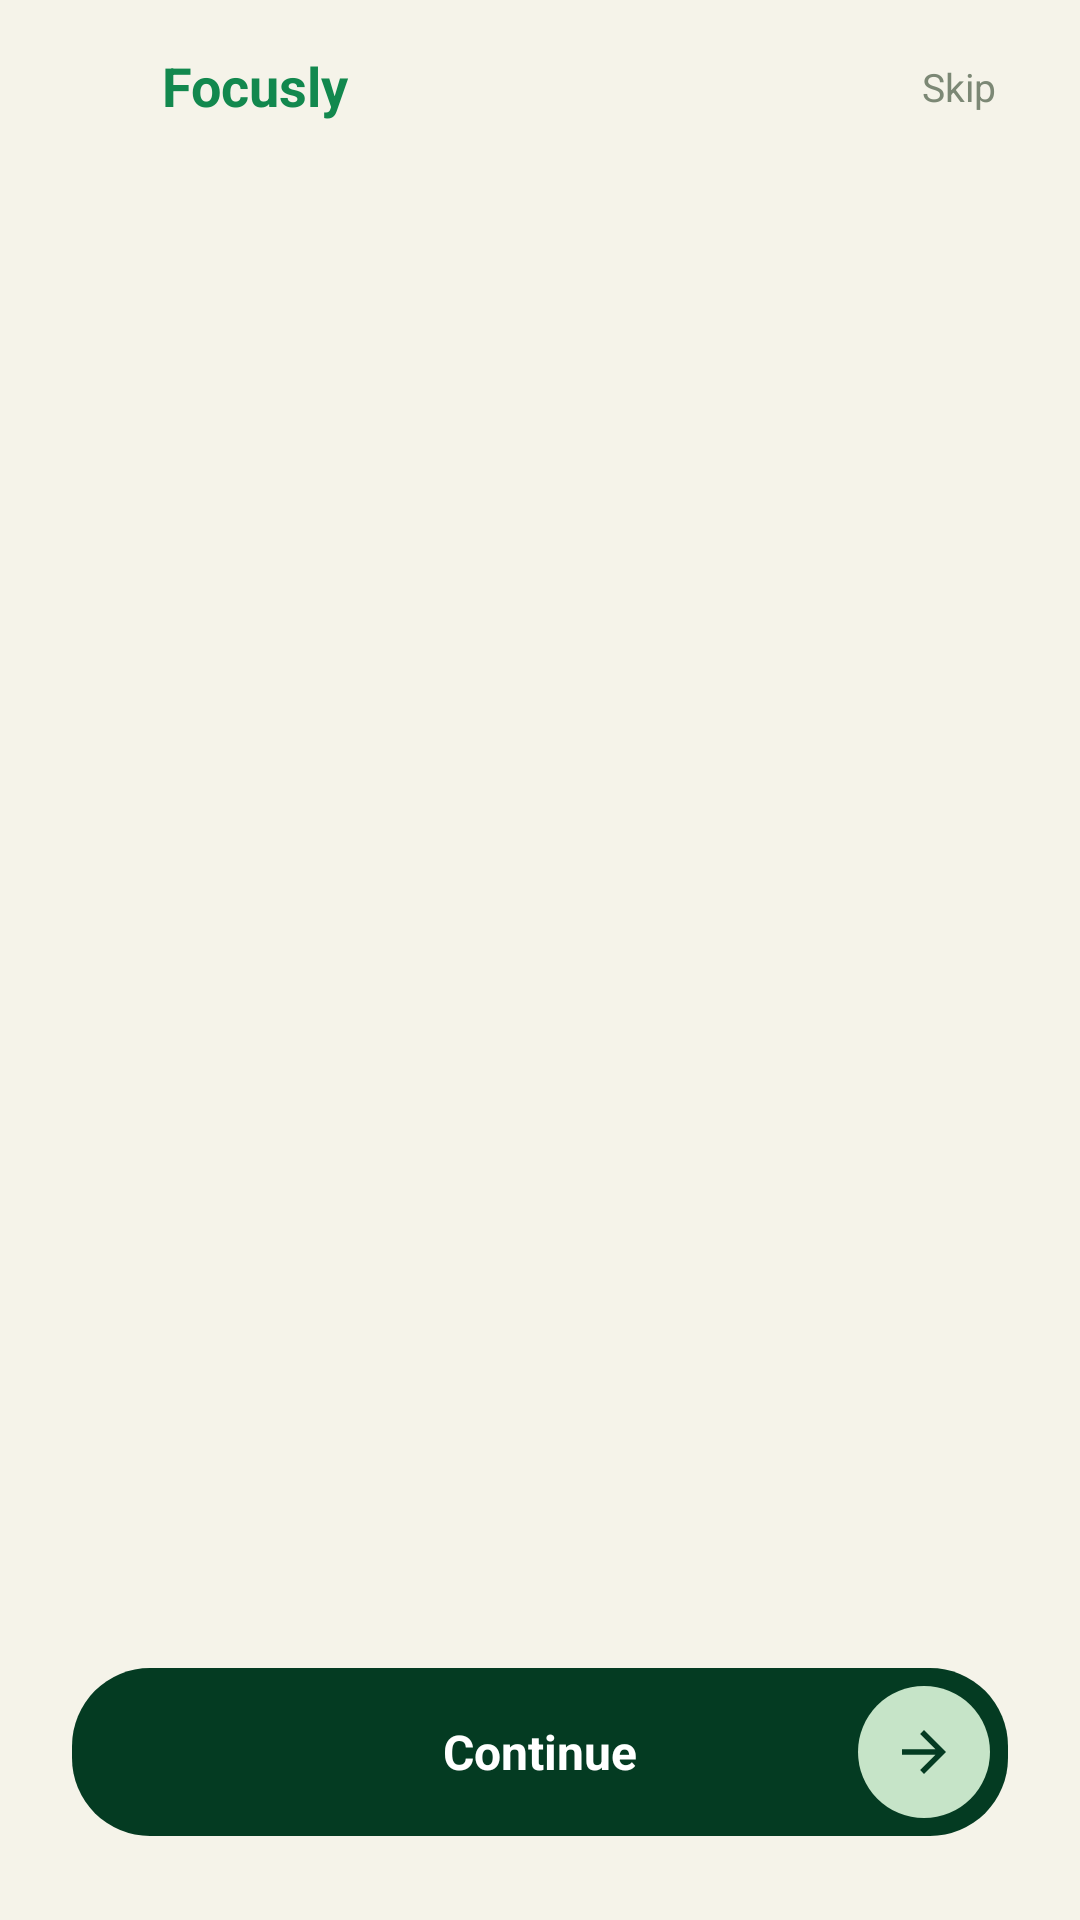

Screen size 1080×1920. Icon name, then its center in pixels as point (x, y):
arrow forward: point (924, 1752)
